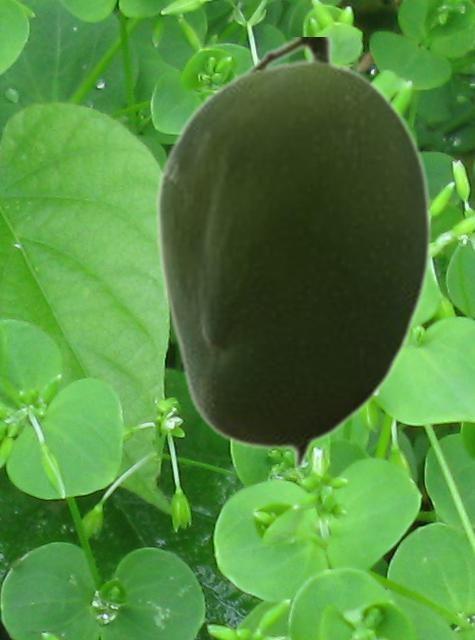green_mango: (153, 37, 431, 470)
